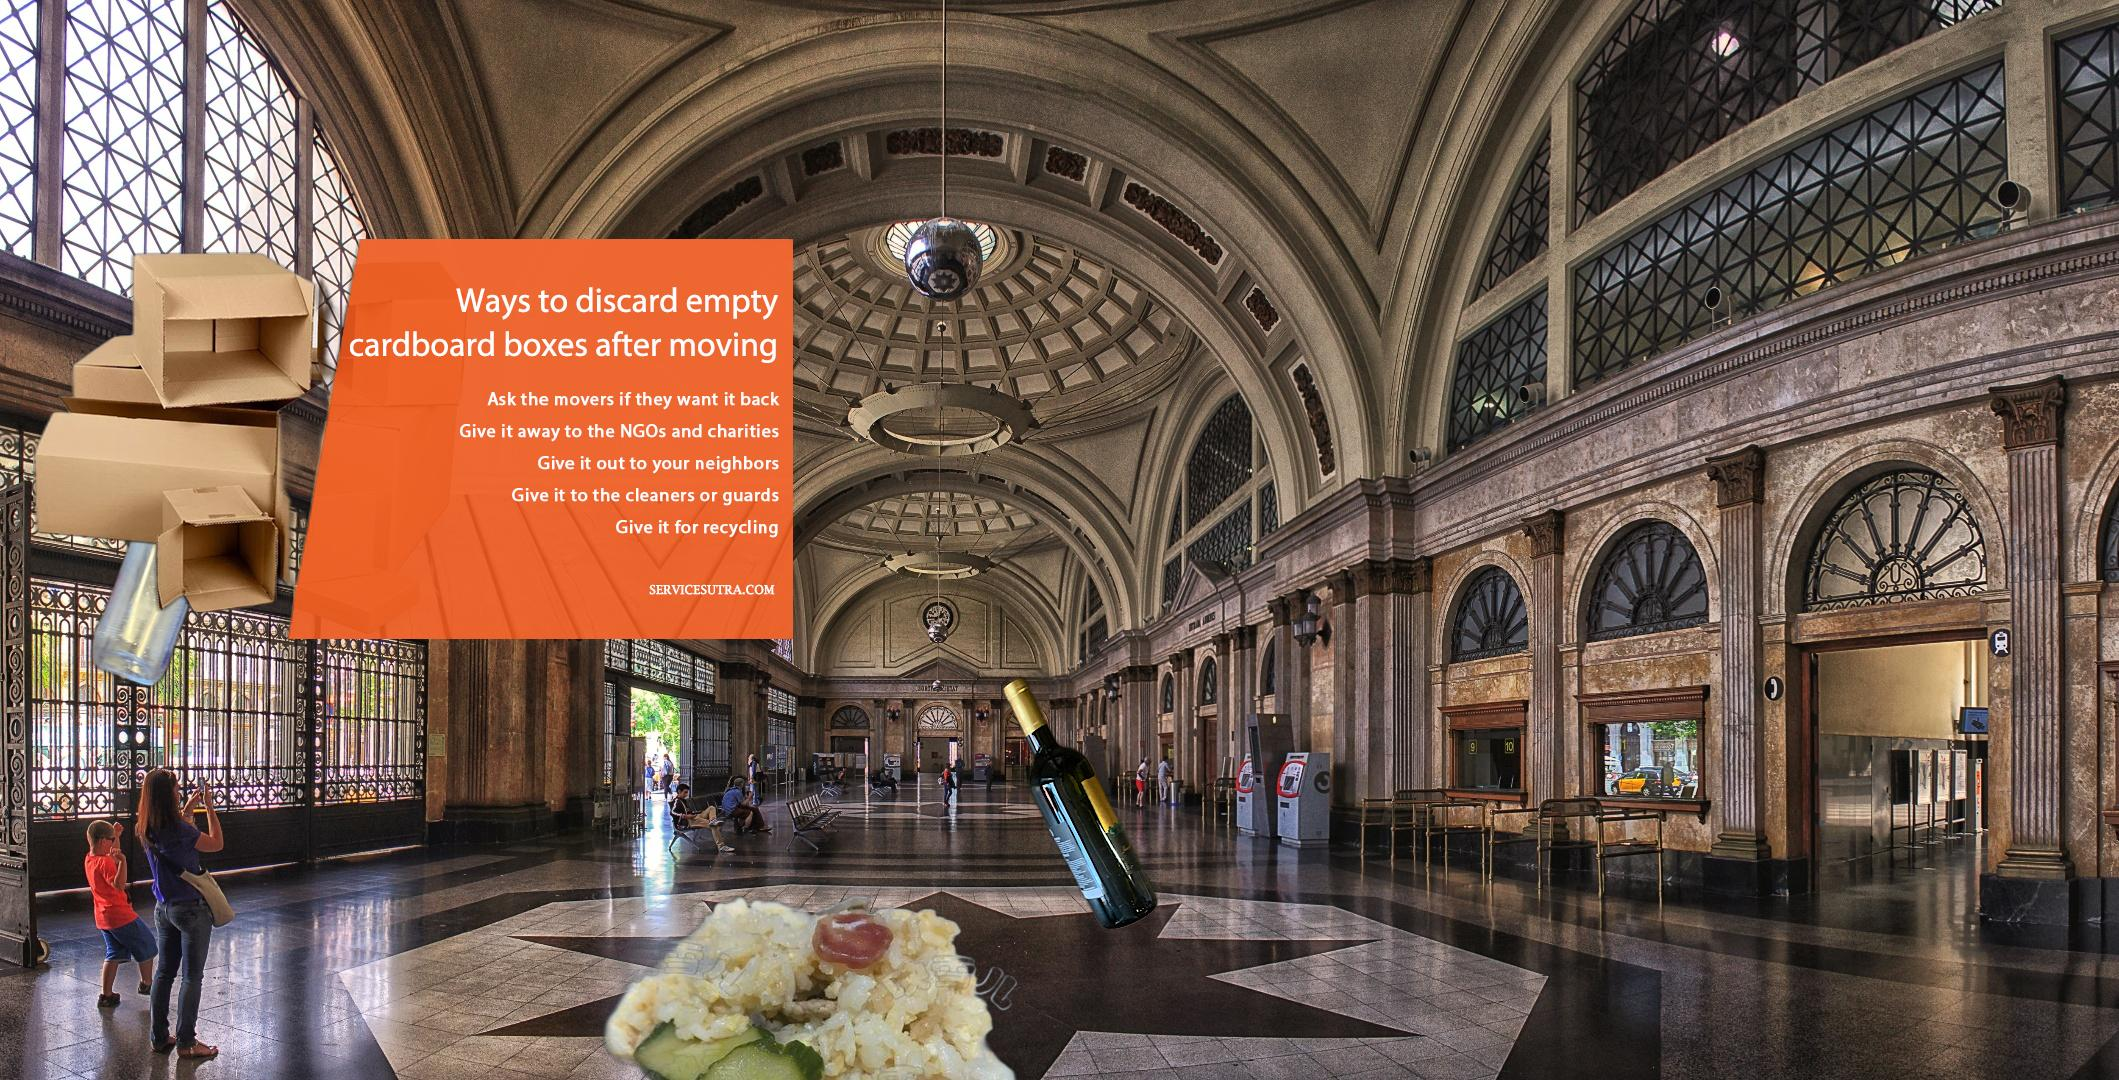biological: (554, 887, 1034, 1080)
glass: (1000, 669, 1163, 935)
plastic-bottles: (87, 459, 224, 693)
trashbox-cardboard: (33, 238, 793, 639)
